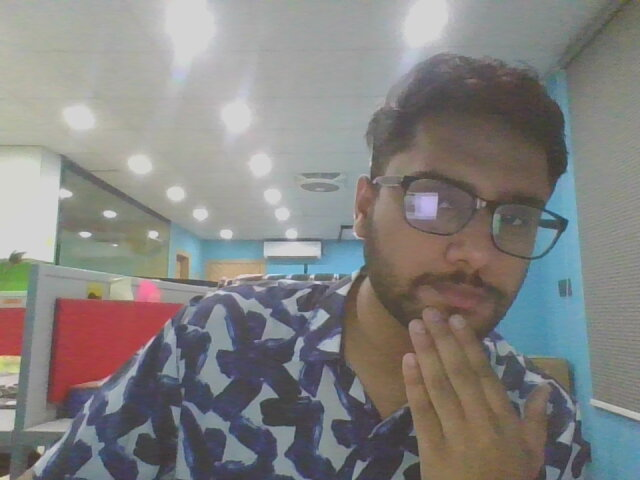thanks: (384, 293, 569, 480)
